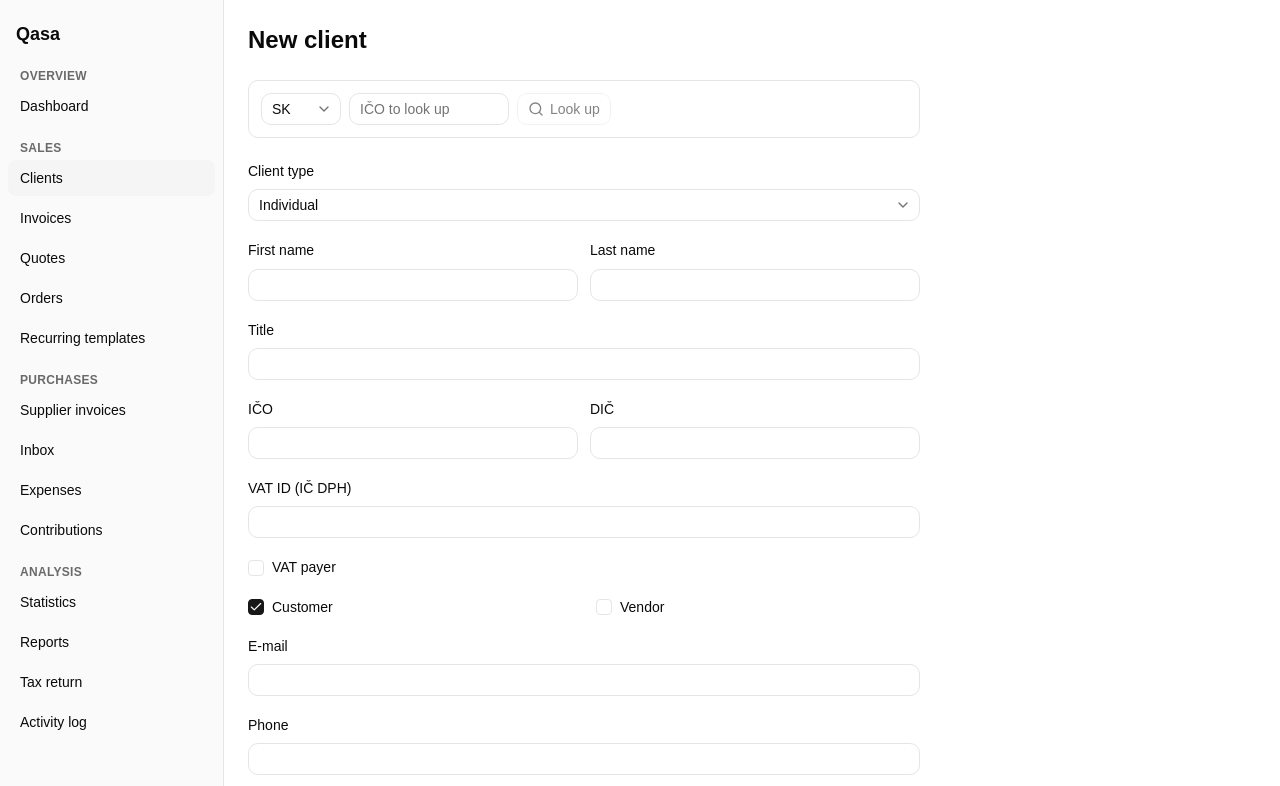
client form › prefills the form from an IČO lookup and switches to a company client
Type "12345678" into the field labelled "IČO to look up" at (429, 109), box top-left (349, 93), bottom-right (509, 125)
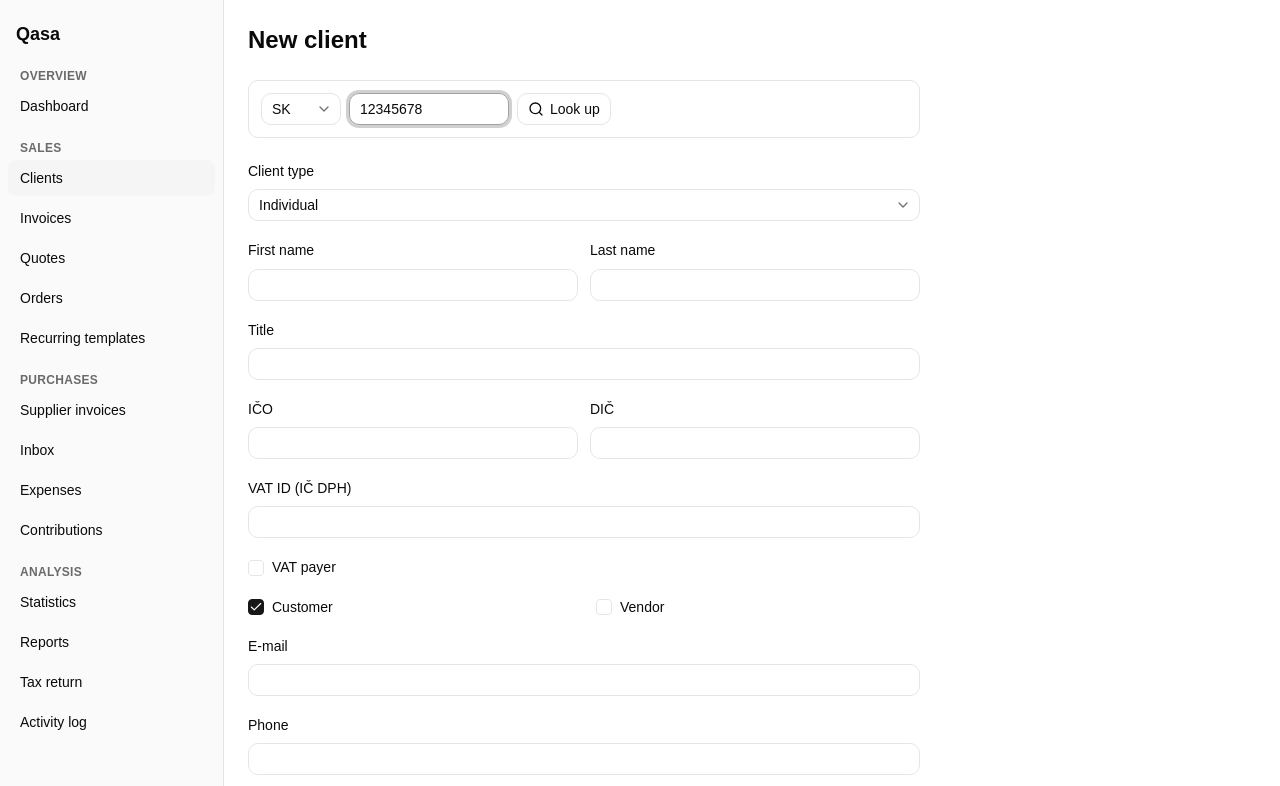
Click the button "Look up" at (564, 109), box top-left (517, 93), bottom-right (611, 125)
(page scrolled)
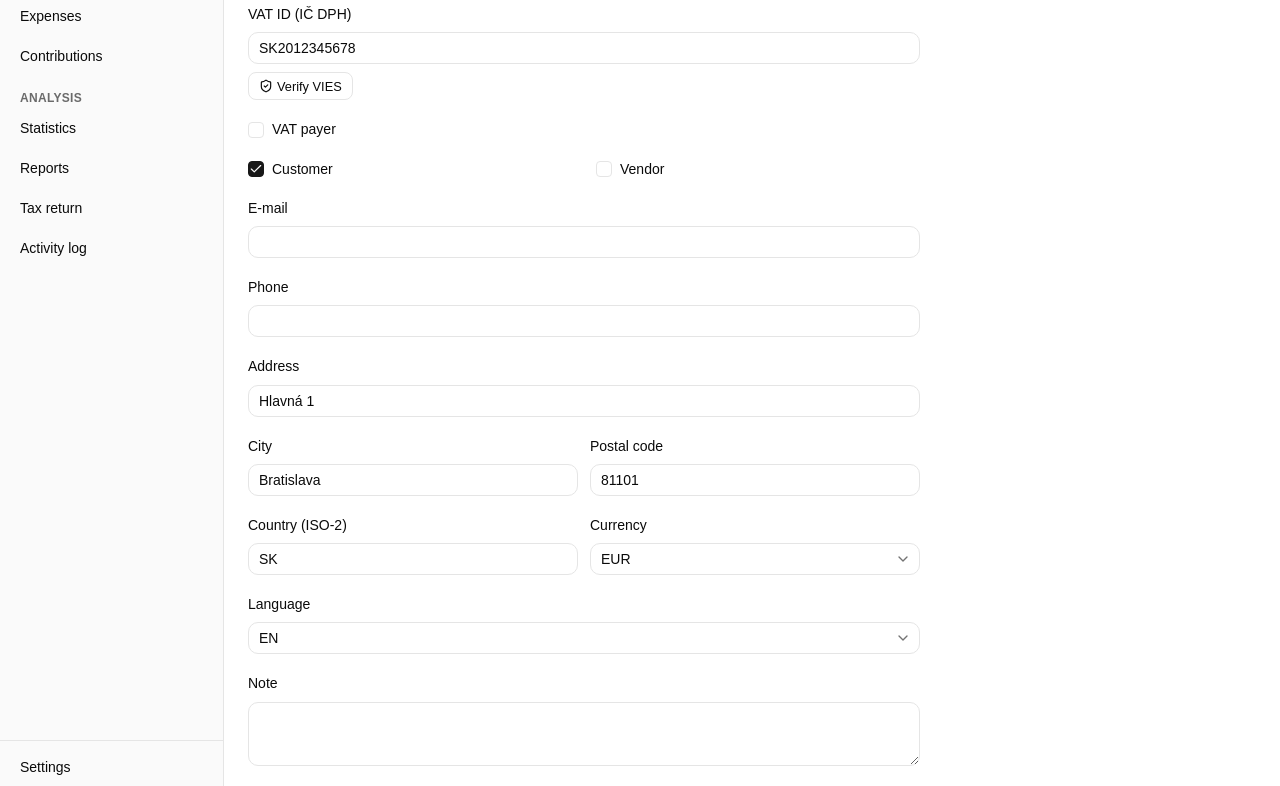
Check: the field showing "SK2012345678" is shown, box top-left (248, 32), bottom-right (920, 64)
Check: the field showing "Hlavná 1" is shown, box top-left (248, 384), bottom-right (920, 416)
Check: the label labelled "First name" is gone
